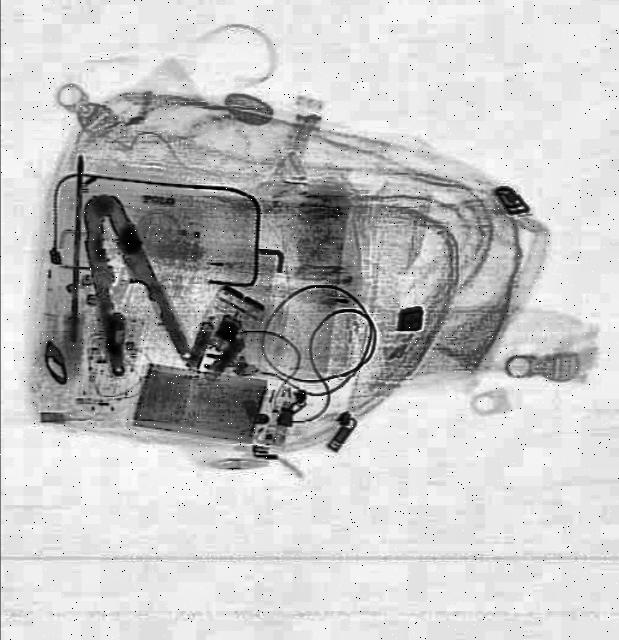Pliers: (48, 185, 196, 385)
